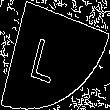L_N: (37, 26, 73, 84)
